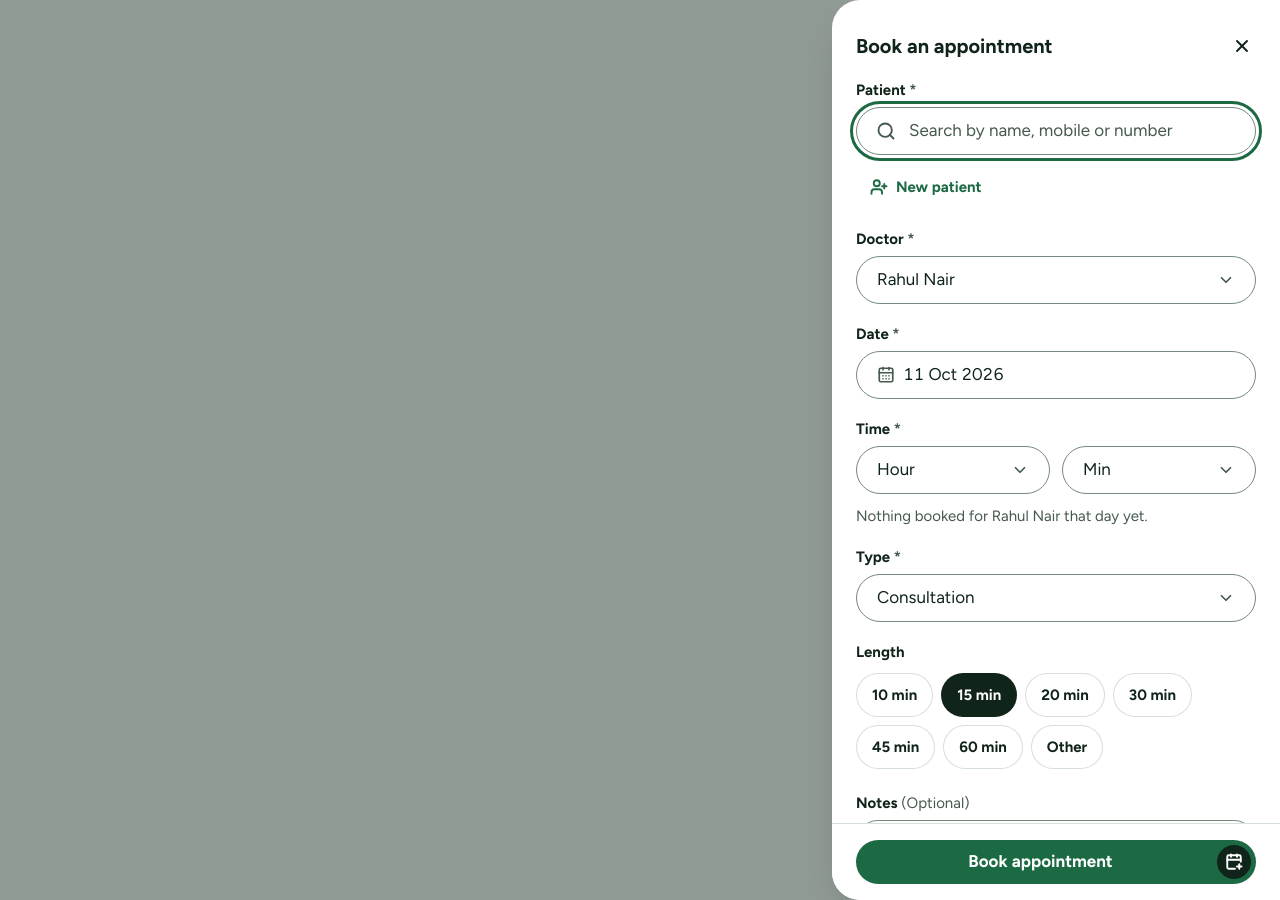
Test: BookingSheet (plan §11.1; D144 – D151) › opens the hours on the hour it is now for today, and on the morning for another day (D146)
The width and height of the screenshot is (1280, 900).
Click the dropdown named "Time, Hour": (953,470) [856, 446, 1050, 494]
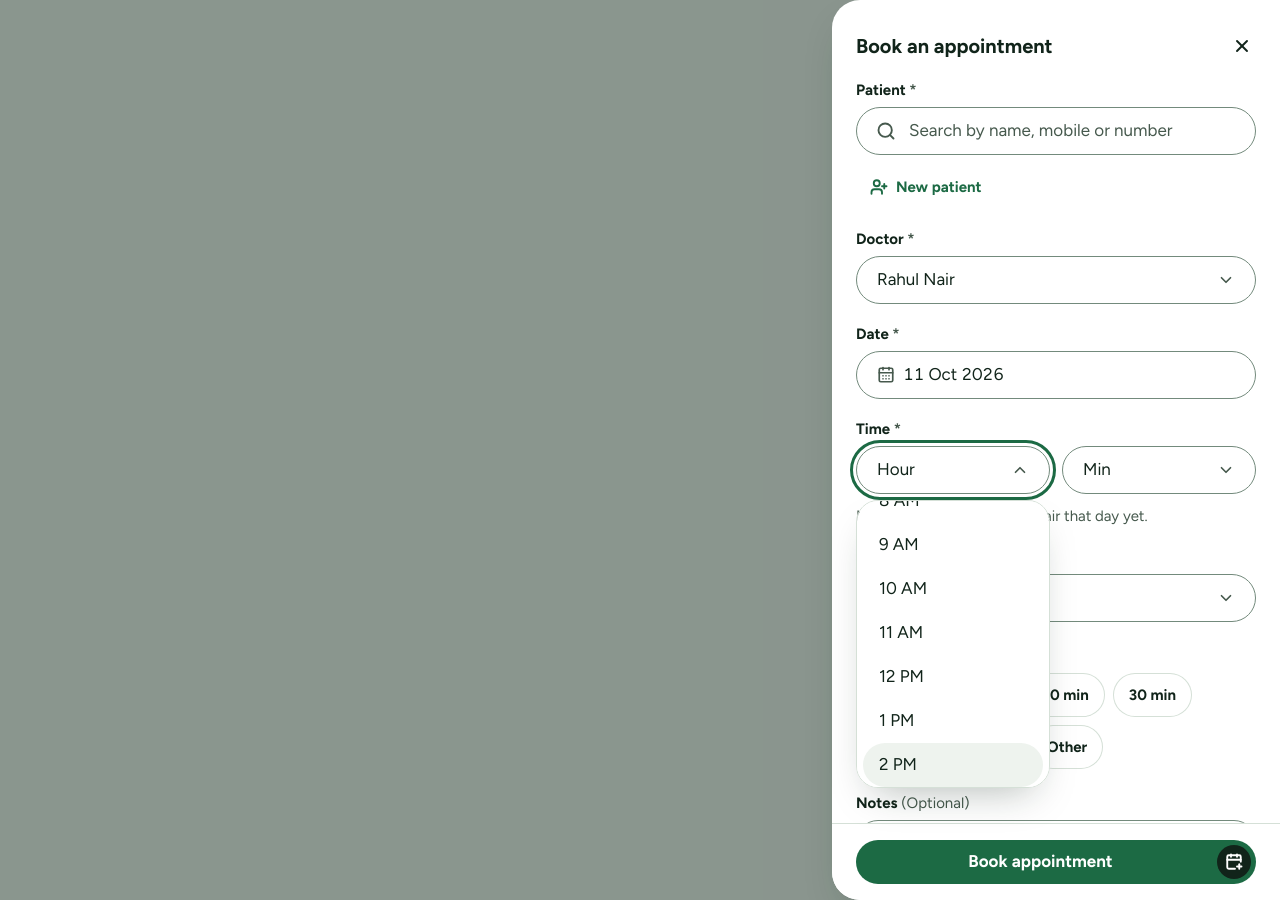
Check: the option "2 PM" is shown, box [863, 743, 1043, 787]
Press Escape
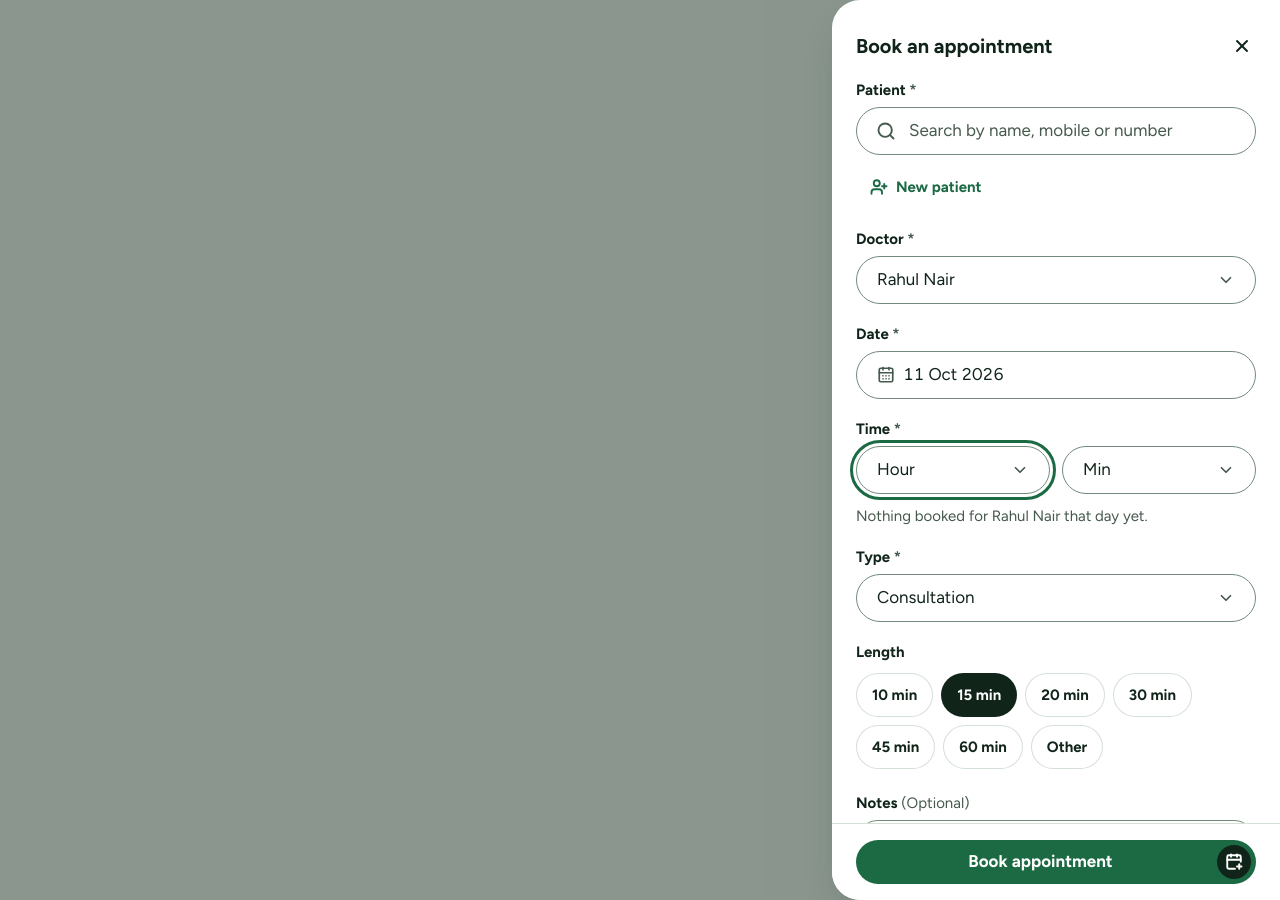
Click the button named "Date": (953,374) [856, 351, 1256, 399]
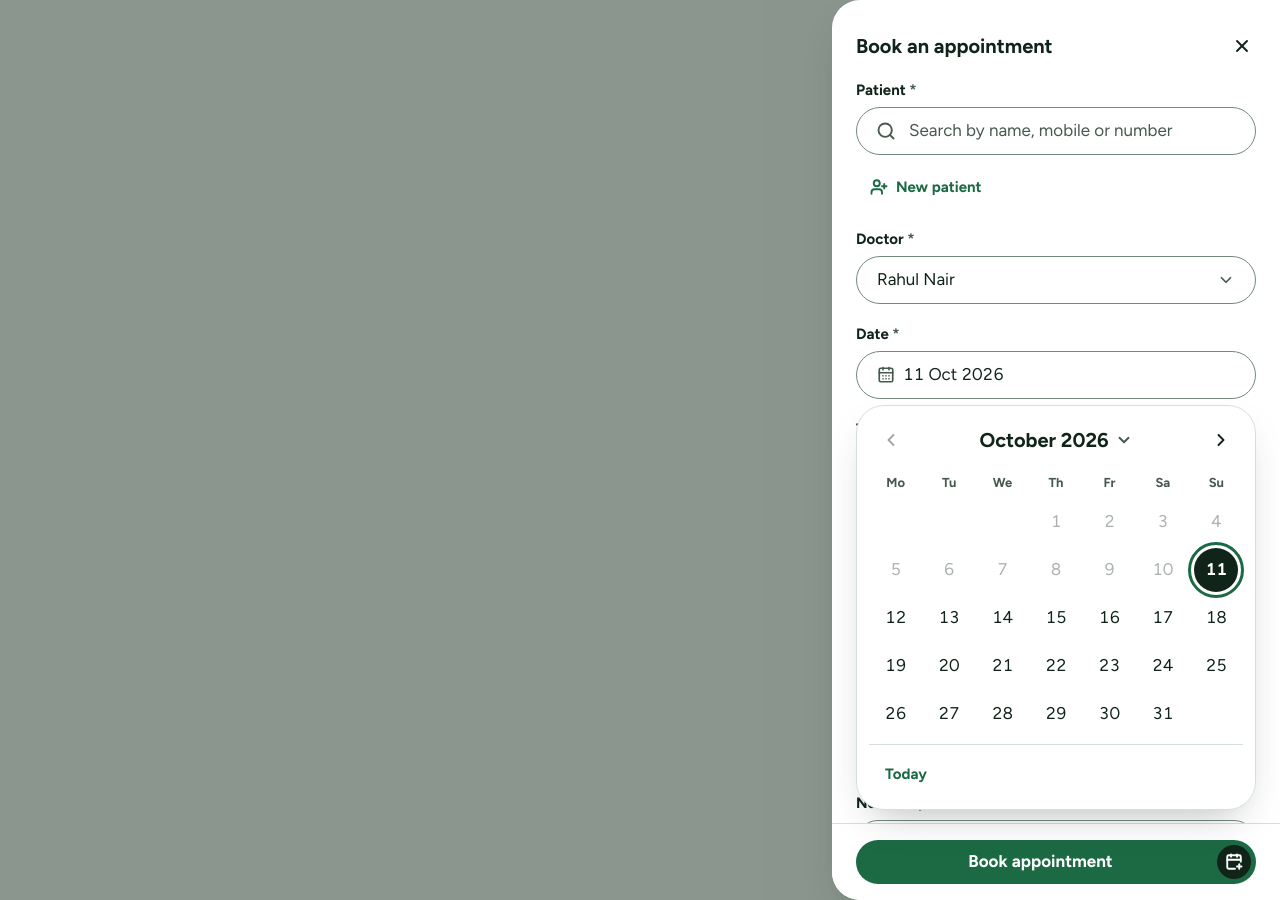
Click the button named "Monday, 12 Oct 2026": (896,618) [874, 596, 918, 640]
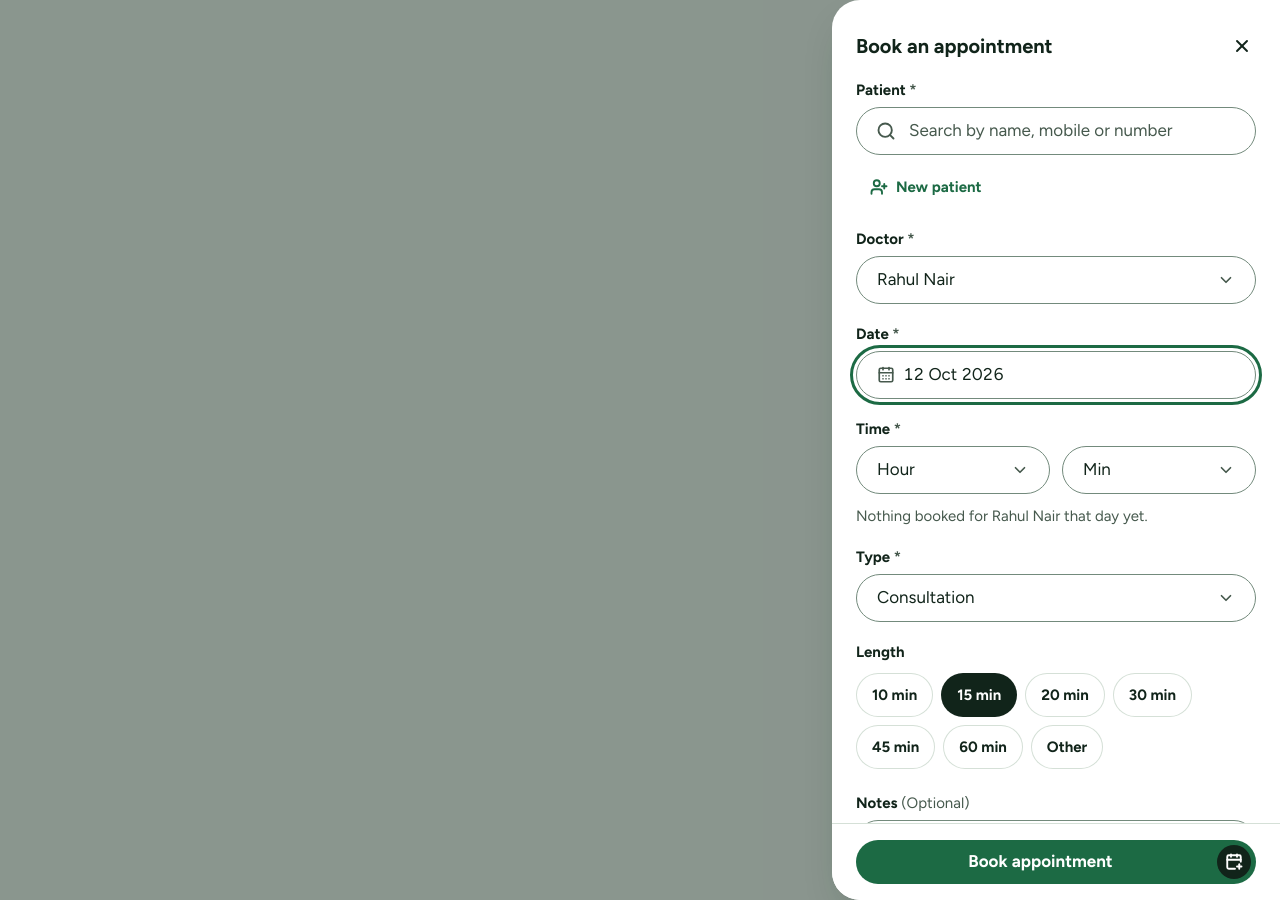
Click the dropdown named "Time, Hour": (953,470) [856, 446, 1050, 494]
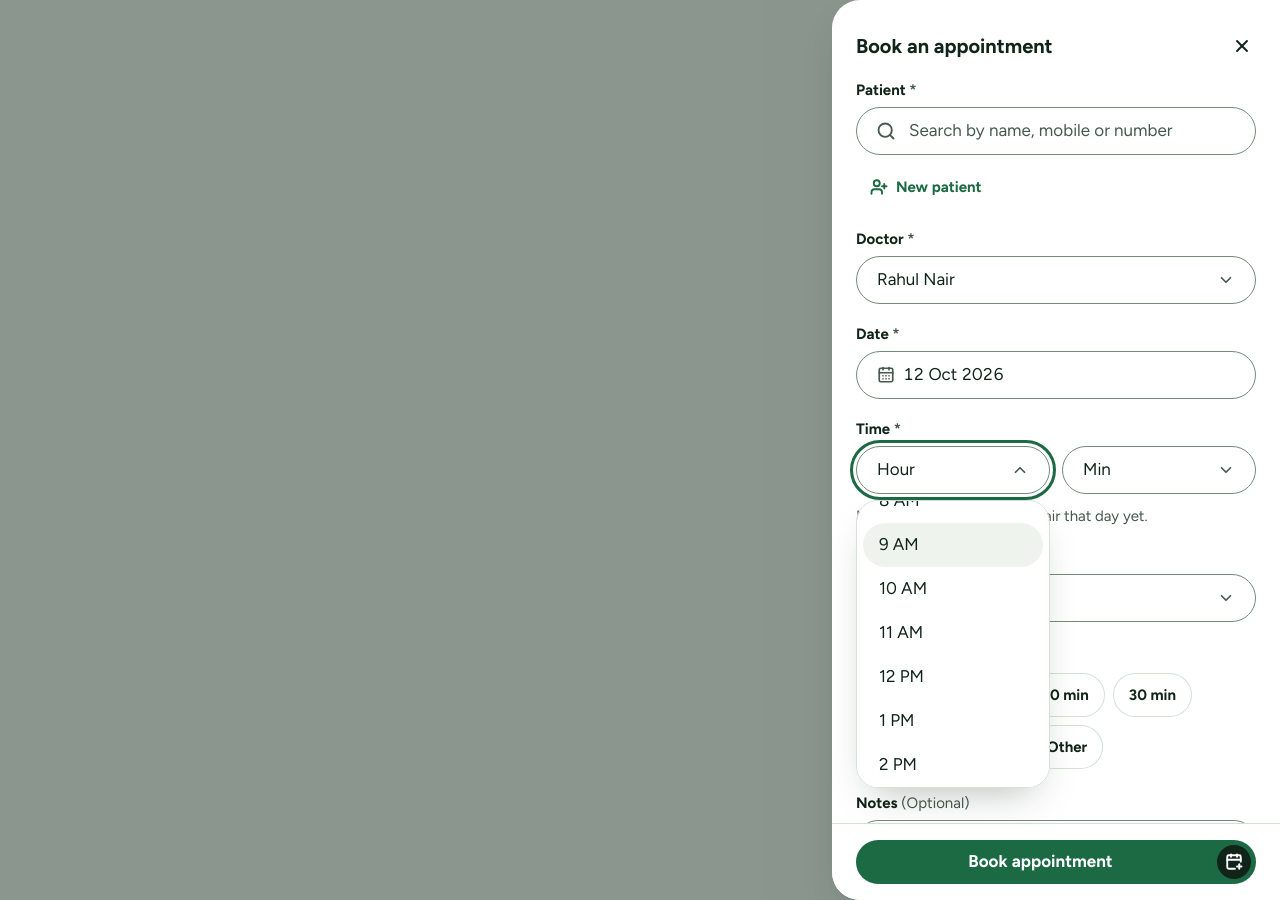
Check: the option "9 AM" is shown, box [863, 523, 1043, 567]
